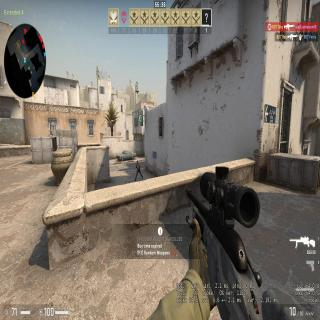T-Body: (135, 160, 142, 178)
T-Head: (137, 160, 138, 163)
